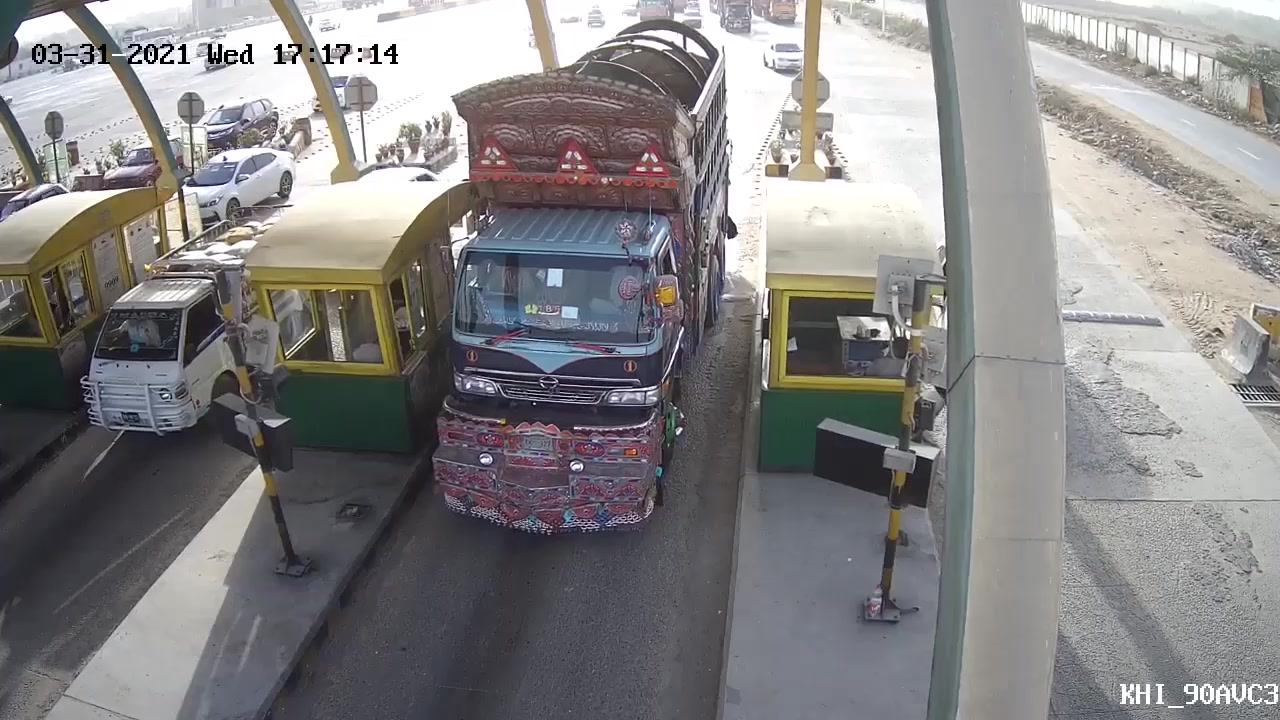F5: (427, 18, 742, 548)
